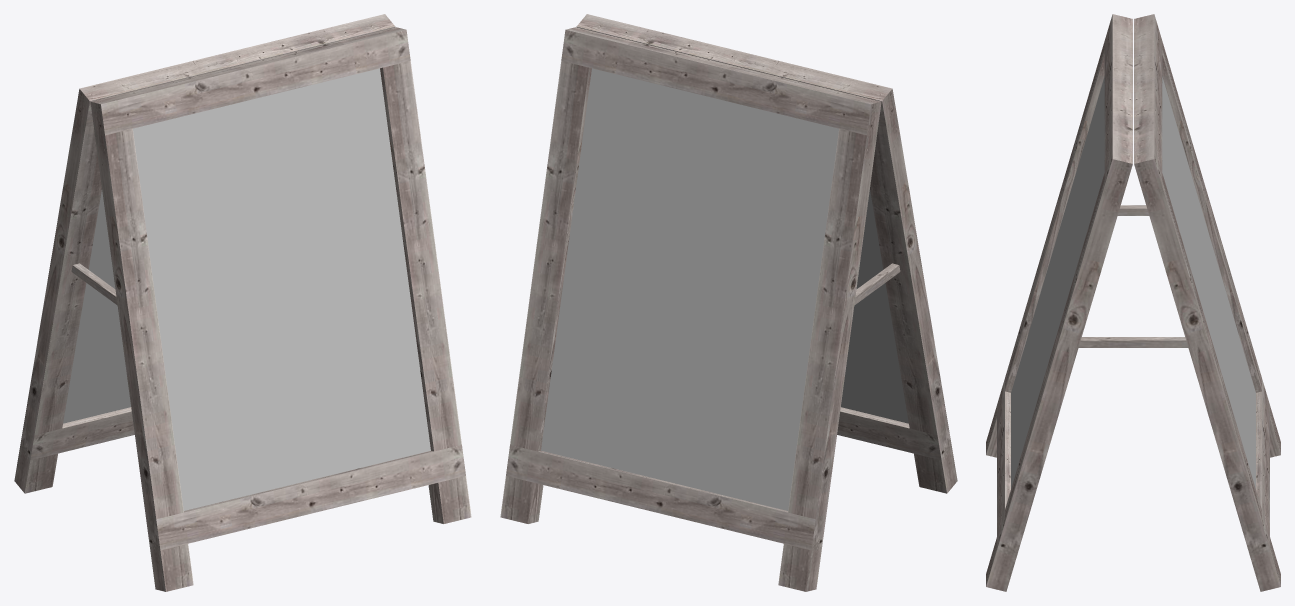
Rendered from poster.fbx.
3 views of the same model, side by side, from view 1: azimuth 30°, elevation 25°; view 2: azimuth 150°, elevation 25°; view 3: azimuth 270°, elevation 25° (orthographic). The views are drawn at different scales.
Visible parts, largest first — view 1: Mesh; view 2: Mesh; view 3: Mesh.
Part boxes in pixels (box(x1,y1,x2,y2)): Mesh: box(14, 14, 471, 591); Mesh: box(500, 14, 957, 591); Mesh: box(986, 14, 1280, 591).
Bounding box in the file's own units: 66 × 91.85 × 56.69.
